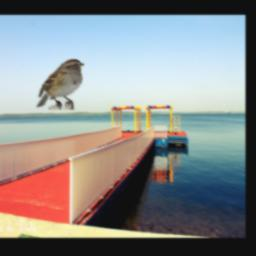Sparrow: (36, 59, 84, 111)
